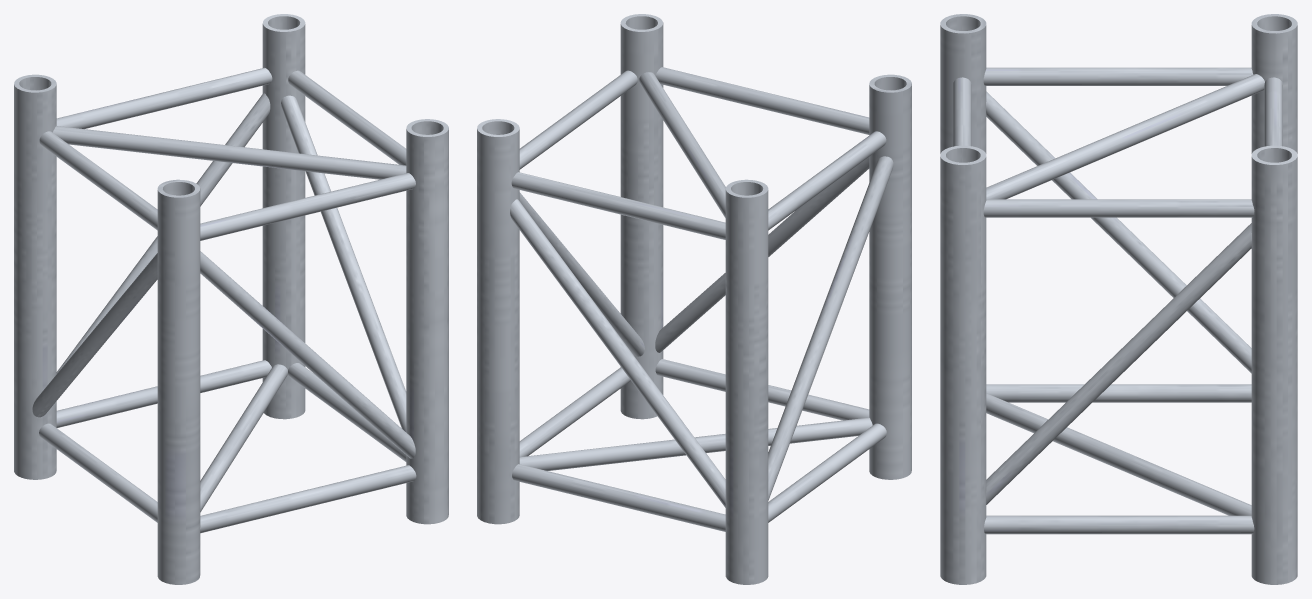
Rendered from Prolyte_H40V_0_50m-u6f8676f.glb.
3 views of the same model, side by side, from view 1: azimuth 30°, elevation 25°; view 2: azimuth 150°, elevation 25°; view 3: azimuth 270°, elevation 25° (orthographic). The views are drawn at different scales.
Visible parts, largest first — view 1: Geom3D (×2); view 2: Geom3D (×2); view 3: Geom3D (×2).
Boxes of the visible parts, x1,y1,x2,y2 form: Geom3D (×2): (14, 14, 448, 584); Geom3D (×2): (477, 14, 911, 584); Geom3D (×2): (940, 14, 1297, 584).
Bounding box in the file's own units: 0.3859 × 0.5 × 0.3858.
3 materials, 2 textured.
